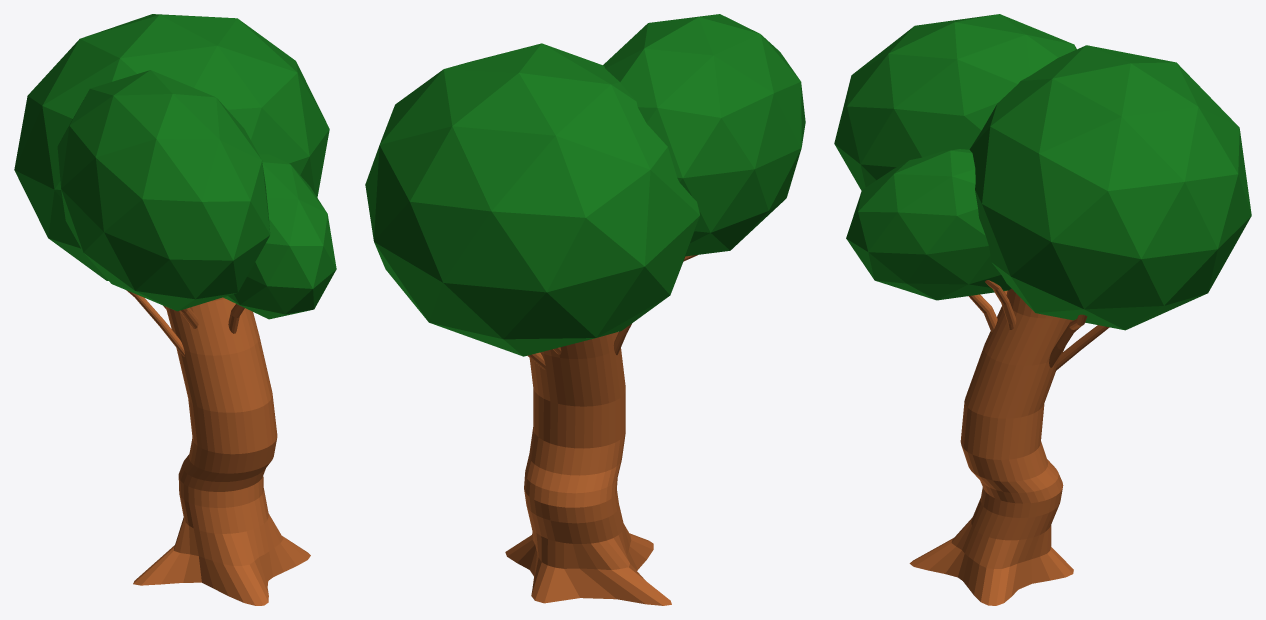
File: Baum_2.fbx
The picture shows the model from 3 angles, left to right: view 1: azimuth 30°, elevation 25°; view 2: azimuth 150°, elevation 25°; view 3: azimuth 270°, elevation 25°; orthographic projection. The views are drawn at different scales.
Parts seen in each view (by area): view 1: Icosphere.006, Cylinder.015; view 2: Icosphere.006, Cylinder.015; view 3: Icosphere.006, Cylinder.015.
Part boxes in pixels (bbox=[...]): Icosphere.006: bbox=[14, 14, 336, 319]; Cylinder.015: bbox=[126, 290, 310, 605]; Icosphere.006: bbox=[365, 14, 805, 356]; Cylinder.015: bbox=[505, 255, 697, 605]; Icosphere.006: bbox=[834, 14, 1251, 330]; Cylinder.015: bbox=[909, 280, 1109, 605].
Bounding box in the file's own units: 354 × 592 × 441.
